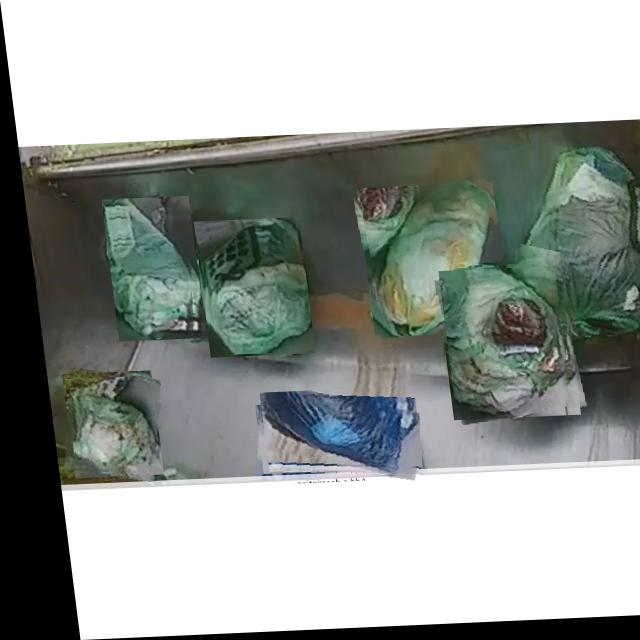general_trashbag: (510, 152, 640, 341), (368, 188, 485, 340), (438, 274, 558, 417), (195, 223, 302, 356), (96, 200, 186, 338), (58, 377, 142, 473)
other_trashbag: (250, 394, 407, 479)
